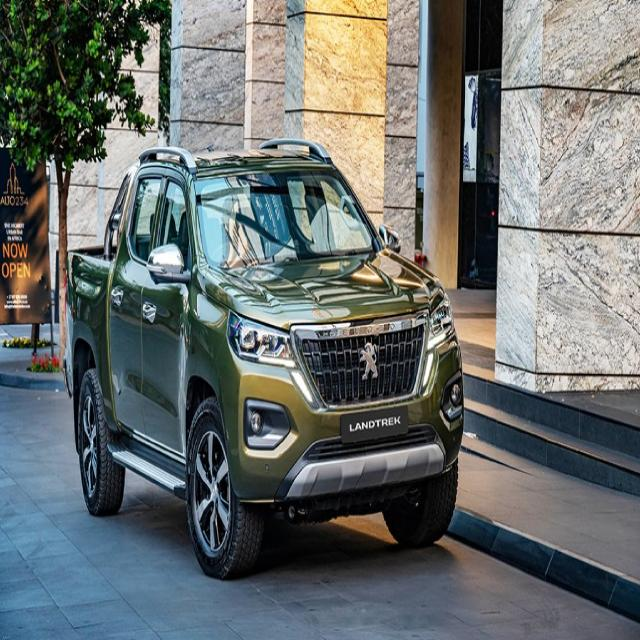Pickup Trucks: (65, 137, 464, 581)
